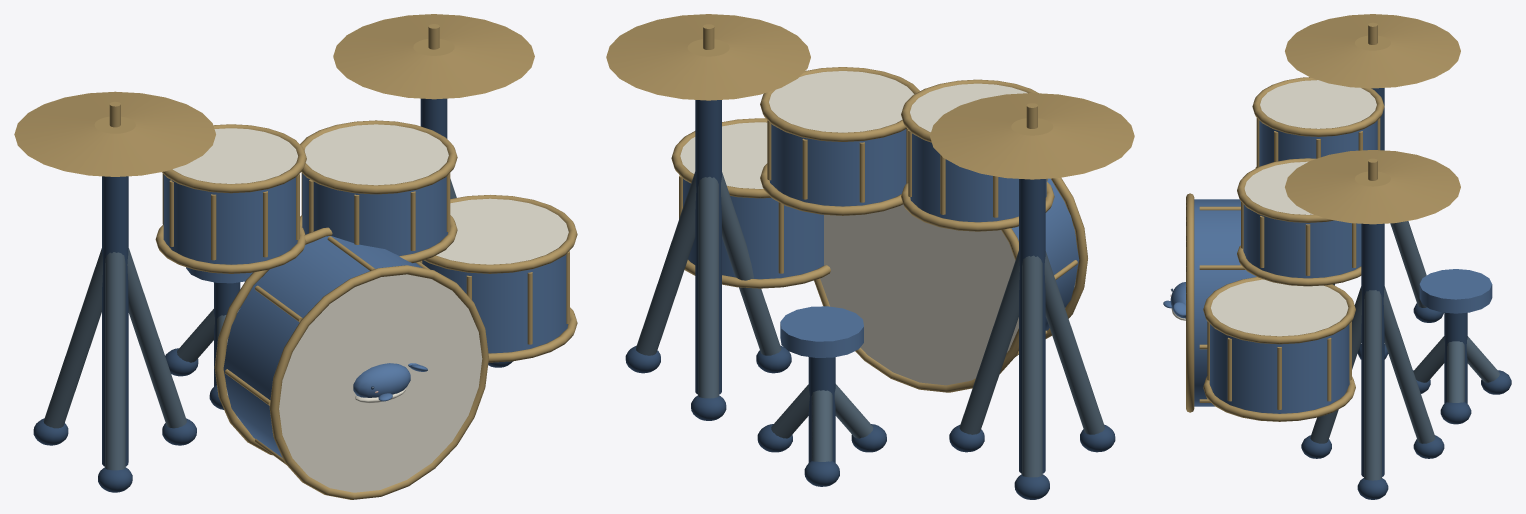
Rendered from v18_special_drum_kit.glb.
3 views of the same model, side by side, from view 1: azimuth 30°, elevation 25°; view 2: azimuth 150°, elevation 25°; view 3: azimuth 270°, elevation 25° (orthographic). The views are drawn at different scales.
Parts seen in each view (by area): view 1: _MeshInstance3D_5467, _MeshInstance3D_5532, _MeshInstance3D_5523, _MeshInstance3D_5464, _MeshInstance3D_5477, _MeshInstance3D_5490, _MeshInstance3D_5503, _MeshInstance3D_5493, _MeshInstance3D_5506, _MeshInstance3D_5468, _MeshInstance3D_5480, _MeshInstance3D_5519 (+17 smaller); view 2: _MeshInstance3D_5465, _MeshInstance3D_5532, _MeshInstance3D_5523, _MeshInstance3D_5490, _MeshInstance3D_5493, _MeshInstance3D_5503, _MeshInstance3D_5477, _MeshInstance3D_5530, _MeshInstance3D_5521, _MeshInstance3D_5546, _MeshInstance3D_5516, _MeshInstance3D_5525 (+28 smaller); view 3: _MeshInstance3D_5532, _MeshInstance3D_5523, _MeshInstance3D_5503, _MeshInstance3D_5506, _MeshInstance3D_5490, _MeshInstance3D_5464, _MeshInstance3D_5480, _MeshInstance3D_5526, _MeshInstance3D_5546, _MeshInstance3D_5477, _MeshInstance3D_5525, _MeshInstance3D_5530 (+18 smaller).
Part boxes in pixels (<box>): _MeshInstance3D_5467: <box>279,274,482,492</box>; _MeshInstance3D_5532: <box>333,14,534,99</box>; _MeshInstance3D_5523: <box>14,91,215,176</box>; _MeshInstance3D_5464: <box>223,236,422,457</box>; _MeshInstance3D_5477: <box>163,174,297,264</box>; _MeshInstance3D_5490: <box>302,173,447,255</box>; _MeshInstance3D_5503: <box>422,254,567,353</box>; _MeshInstance3D_5493: <box>304,124,448,185</box>; _MeshInstance3D_5506: <box>436,198,568,264</box>; _MeshInstance3D_5468: <box>269,265,488,499</box>; _MeshInstance3D_5480: <box>172,128,297,183</box>; _MeshInstance3D_5519: <box>105,252,125,470</box>; _MeshInstance3D_5465: <box>820,204,1018,385</box>; _MeshInstance3D_5532: <box>606,14,810,100</box>; _MeshInstance3D_5523: <box>930,93,1134,179</box>; _MeshInstance3D_5490: <box>769,124,906,206</box>; _MeshInstance3D_5493: <box>769,71,914,132</box>; _MeshInstance3D_5503: <box>683,179,823,279</box>; _MeshInstance3D_5477: <box>910,133,1046,222</box>; _MeshInstance3D_5530: <box>698,176,718,398</box>; _MeshInstance3D_5521: <box>1022,255,1042,477</box>; _MeshInstance3D_5546: <box>780,306,863,357</box>; _MeshInstance3D_5516: <box>1019,179,1045,473</box>; _MeshInstance3D_5525: <box>695,100,721,394</box>; _MeshInstance3D_5532: <box>1285,150,1460,224</box>; _MeshInstance3D_5523: <box>1285,14,1460,88</box>; _MeshInstance3D_5503: <box>1209,324,1349,413</box>; _MeshInstance3D_5506: <box>1211,279,1348,336</box>; _MeshInstance3D_5490: <box>1243,204,1361,278</box>; _MeshInstance3D_5464: <box>1194,199,1256,406</box>; _MeshInstance3D_5480: <box>1260,80,1376,128</box>; _MeshInstance3D_5526: <box>1364,290,1381,480</box>; _MeshInstance3D_5546: <box>1419,269,1492,313</box>; _MeshInstance3D_5477: <box>1259,120,1377,166</box>; _MeshInstance3D_5525: <box>1361,223,1384,476</box>; _MeshInstance3D_5530: <box>1383,286,1435,443</box>.
Size of the model in its own units: 2.37 by 1.65 by 1.66.
